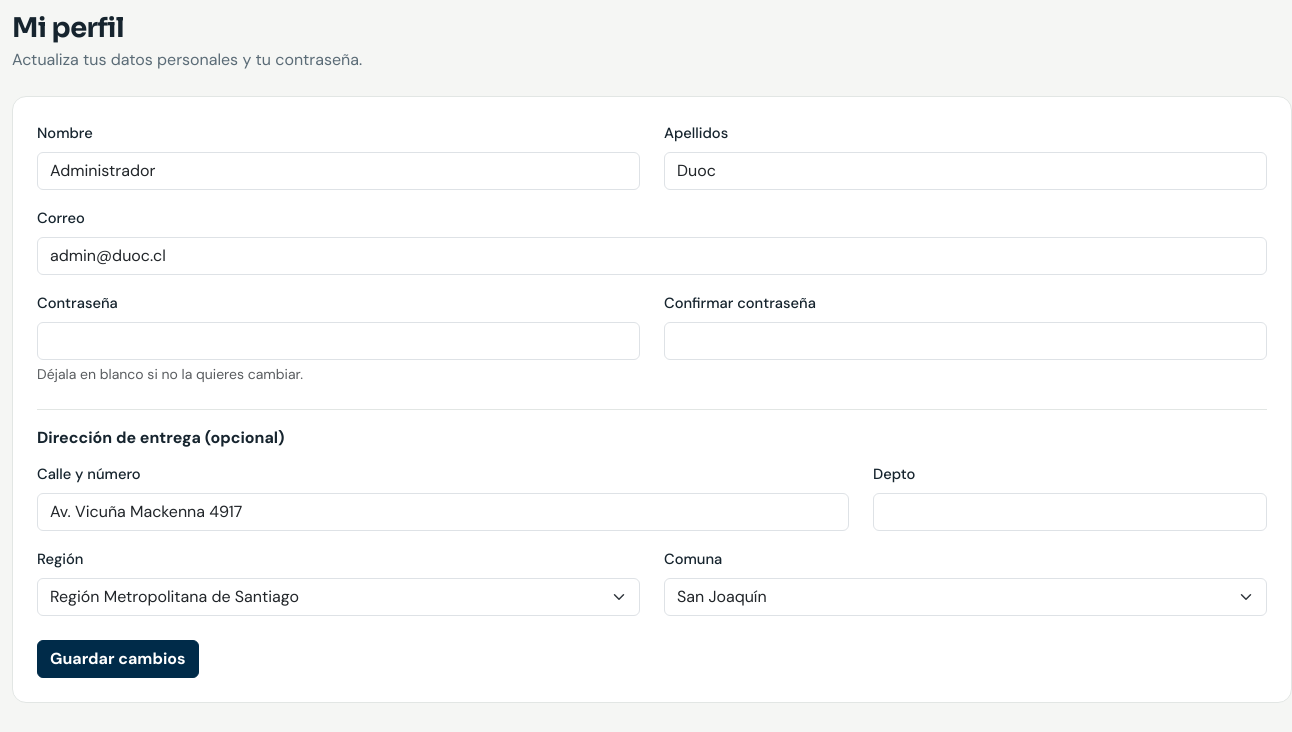
paginas del administrador › Usuarios › el perfil no deja usar el correo de otra cuenta
Replace the text in the field labelled "Correo" with "estudiante@duoc.cl": (652, 256) [37, 237, 1267, 275]
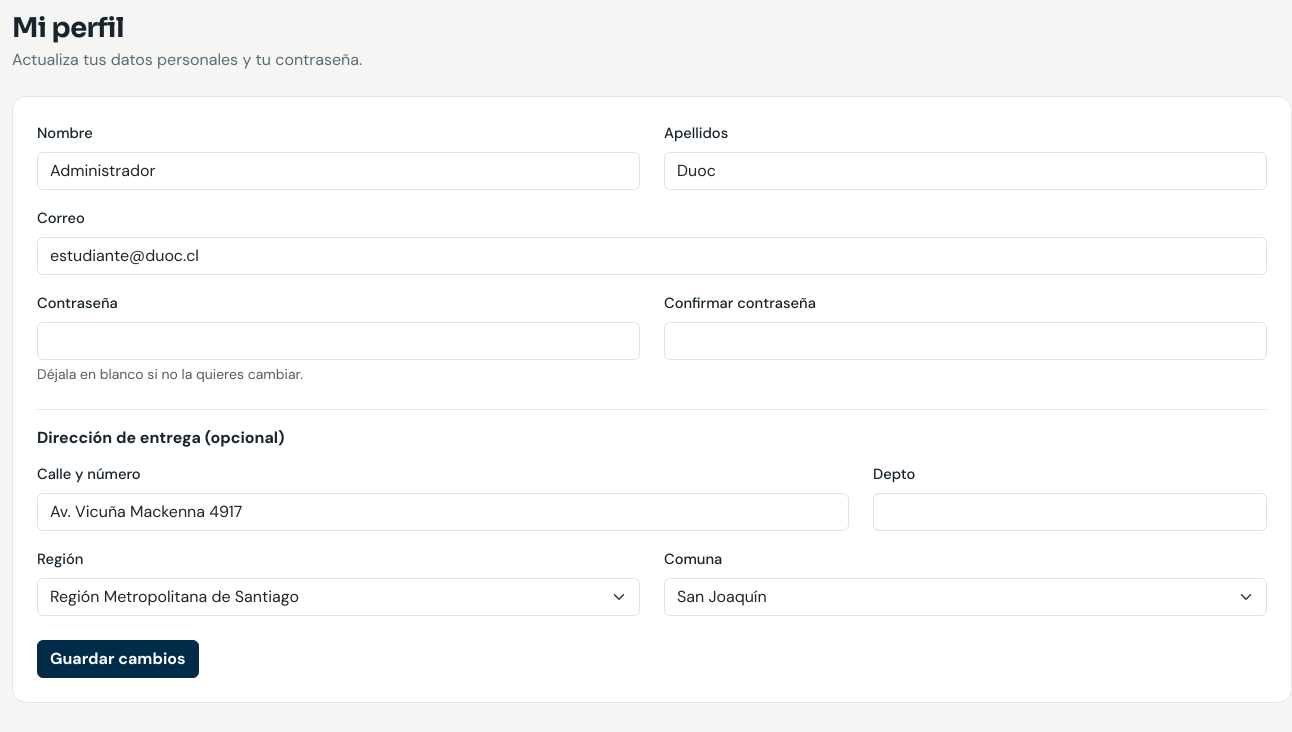
Click the button "Guardar cambios": (118, 659) [37, 640, 198, 678]
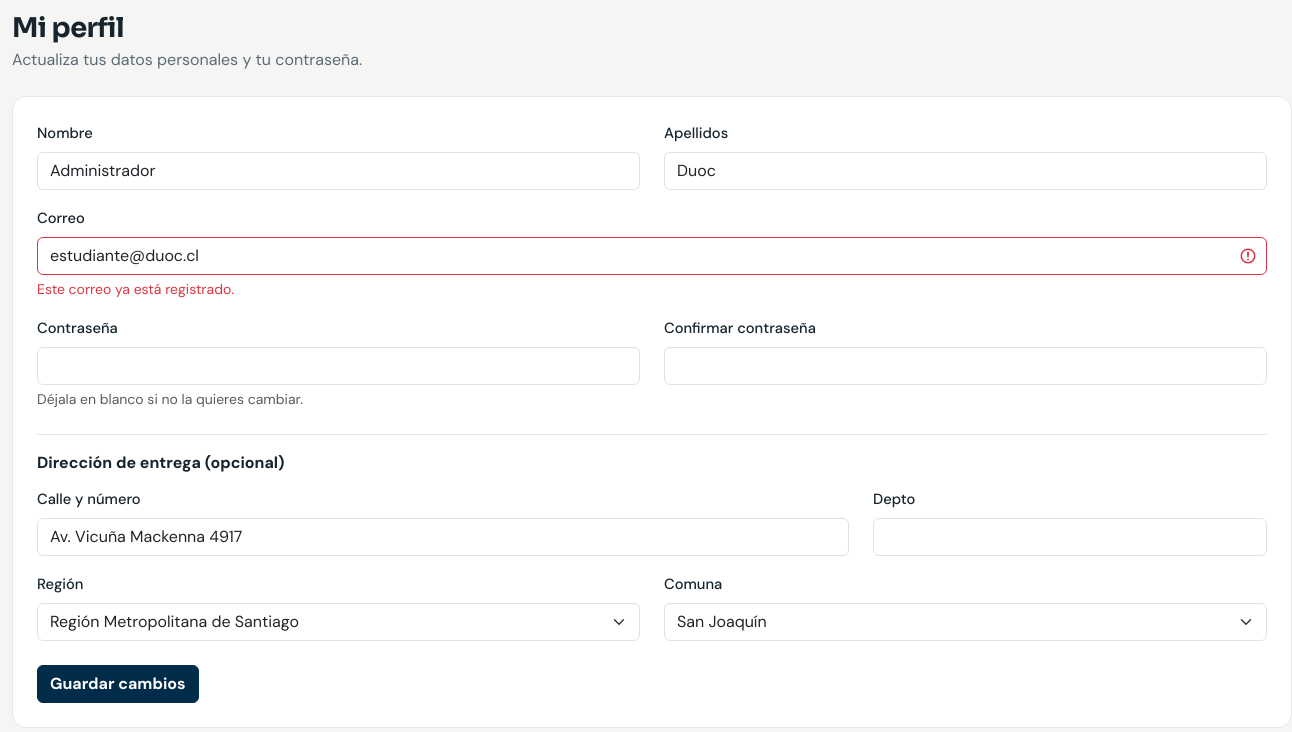
Now the text "Este correo ya está registrado." is shown, box [37, 280, 234, 298]
